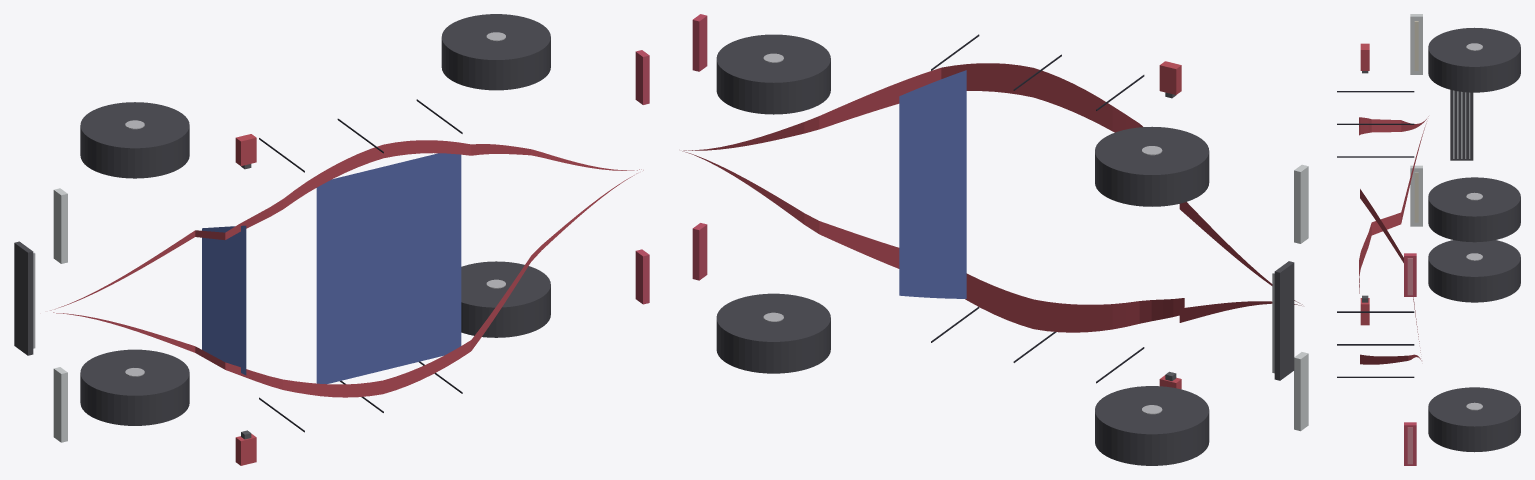
Rendered from sport_car.glb.
3 renders of one model, left to right at view 1: azimuth 30°, elevation 25°; view 2: azimuth 150°, elevation 25°; view 3: azimuth 270°, elevation 25°, orthographic. The views are drawn at different scales.
Visible parts, largest first — view 1: world; view 2: world; view 3: world.
Part boxes in pixels (x1,y1,x2,y2): world: (14, 14, 649, 465); world: (682, 14, 1308, 465); world: (1337, 14, 1520, 465).
Bounding box in the file's own units: 4.6 × 2.36 × 1.43.
